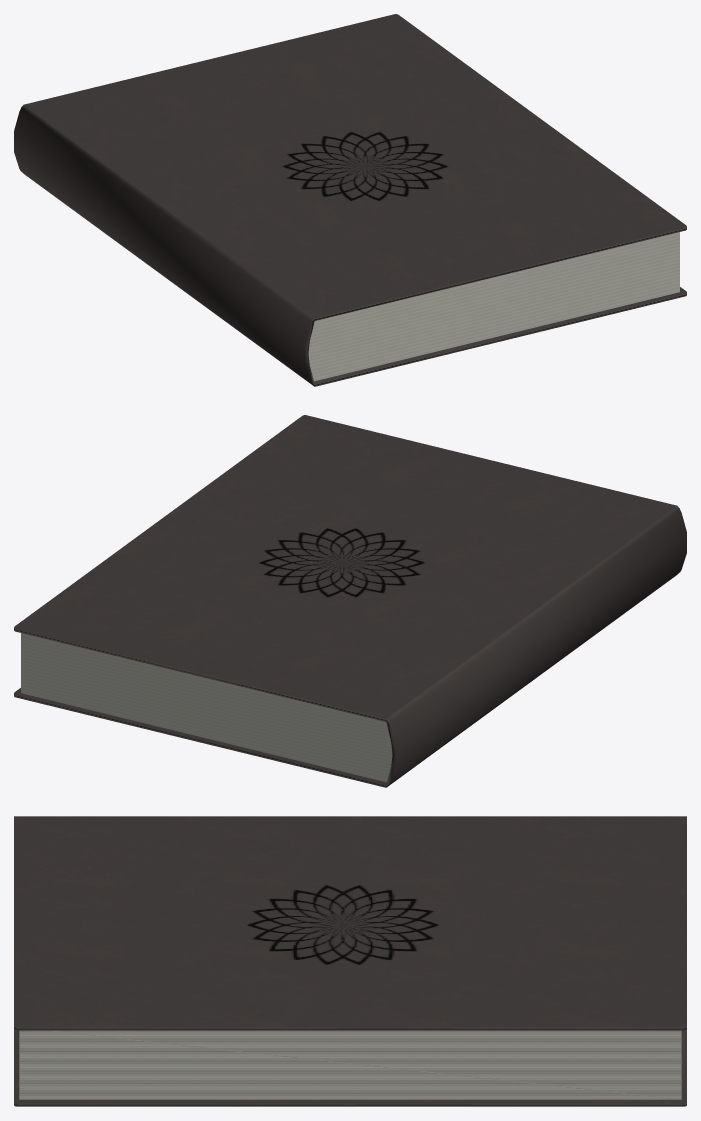
Rendered from ksziaka.gltf.
3 renders of one model, top to bottom at view 1: azimuth 30°, elevation 25°; view 2: azimuth 150°, elevation 25°; view 3: azimuth 270°, elevation 25°, orthographic. The views are drawn at different scales.
Parts seen in each view (by area): view 1: Cube; view 2: Cube; view 3: Cube.
Boxes of the visible parts, <box> form: Cube: <box>14,14,686,386</box>; Cube: <box>14,415,686,787</box>; Cube: <box>14,816,686,1106</box>.
Bounding box in the file's own units: 2.04 × 0.3512 × 2.68.
Materials: 2 (2 with a texture image).
